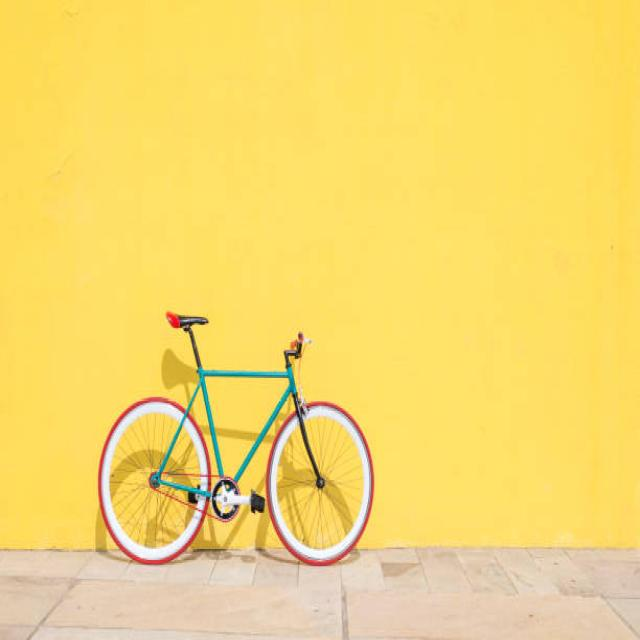bicycle: (100, 311, 374, 564)
